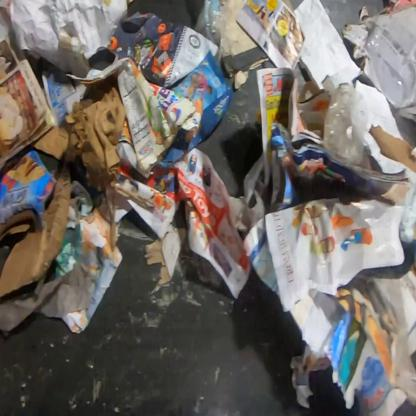cardboard: (0, 147, 72, 299), (33, 84, 125, 192)
soft_plastic: (364, 6, 416, 110), (323, 86, 369, 164), (196, 2, 233, 56)
